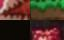crimera: (0, 0, 30, 20)
wood: (0, 20, 30, 40)
